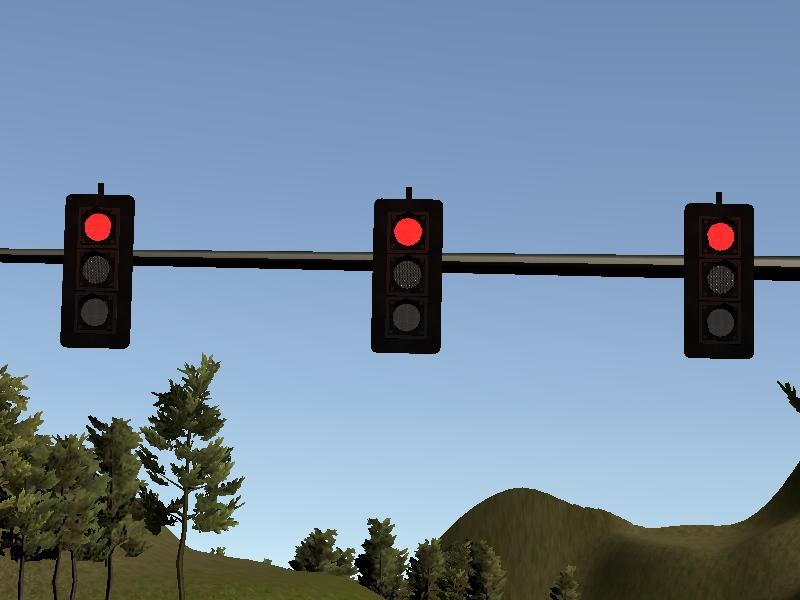red: (63, 193, 134, 347), (682, 203, 753, 357), (372, 199, 443, 353)
